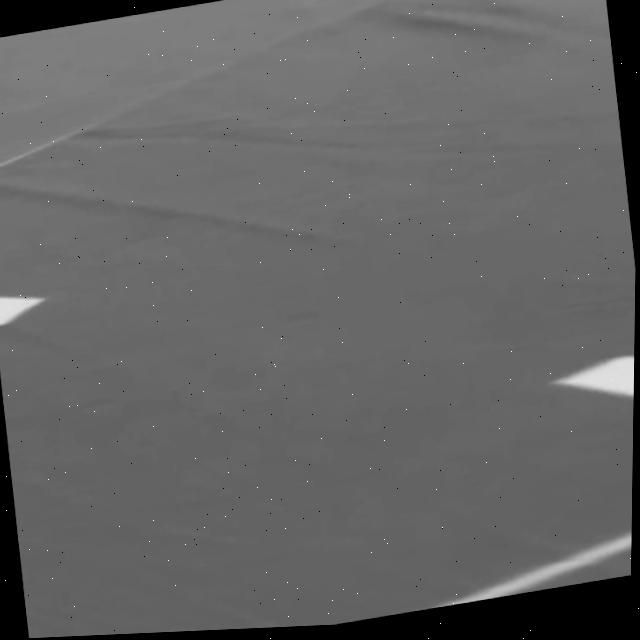center: (552, 357, 634, 397), (0, 298, 44, 324)
